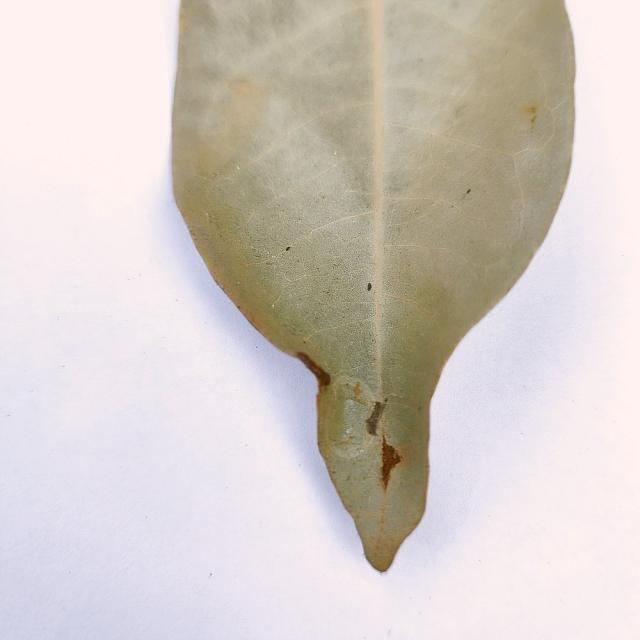Dry_Leaf-Lychee: (168, 0, 578, 576)
